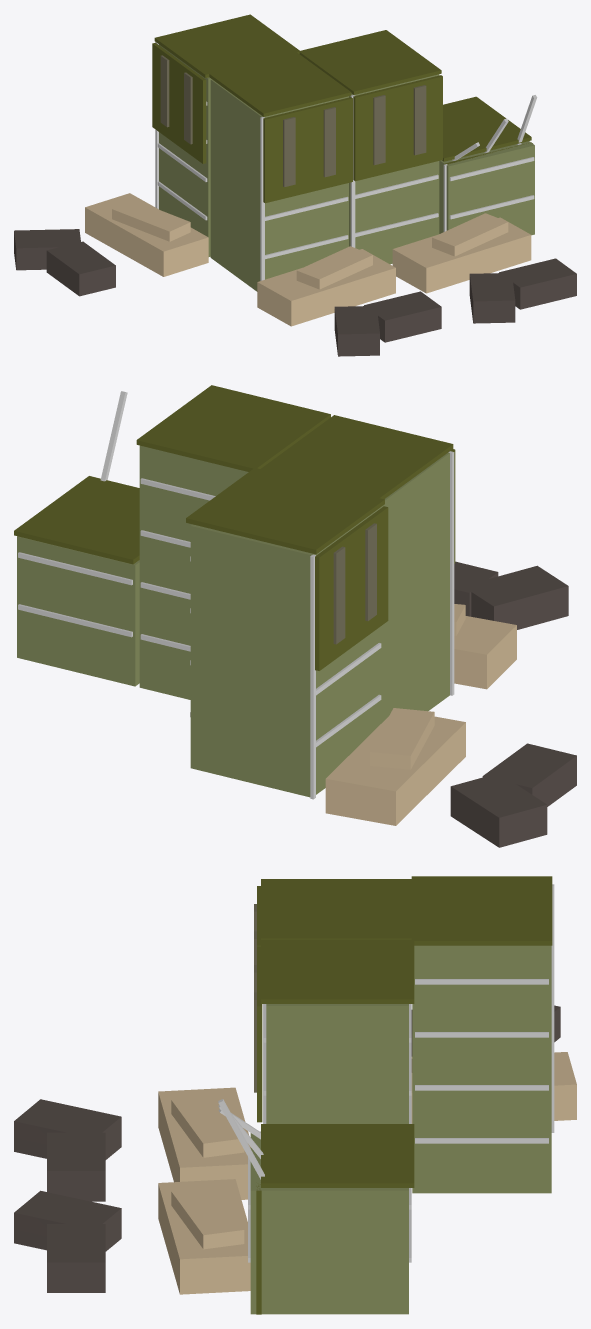
Rendered from SM_HescoRemate_v4_Red_e1_Danado_LOD0.fbx.
3 views of the same model, one above another, from view 1: azimuth 30°, elevation 25°; view 2: azimuth 150°, elevation 25°; view 3: azimuth 270°, elevation 25° (orthographic). The views are drawn at different scales.
Parts seen in each view (by area): view 1: SM_hesco_piezas_v37_LOD0; view 2: SM_hesco_piezas_v37_LOD0; view 3: SM_hesco_piezas_v37_LOD0.
Part boxes in pixels (x1,y1,x2,y2): SM_hesco_piezas_v37_LOD0: [14, 14, 576, 356]; SM_hesco_piezas_v37_LOD0: [14, 385, 576, 847]; SM_hesco_piezas_v37_LOD0: [14, 876, 576, 1314].
Size of the model in its own units: 5.25 by 2.16 by 4.33.
